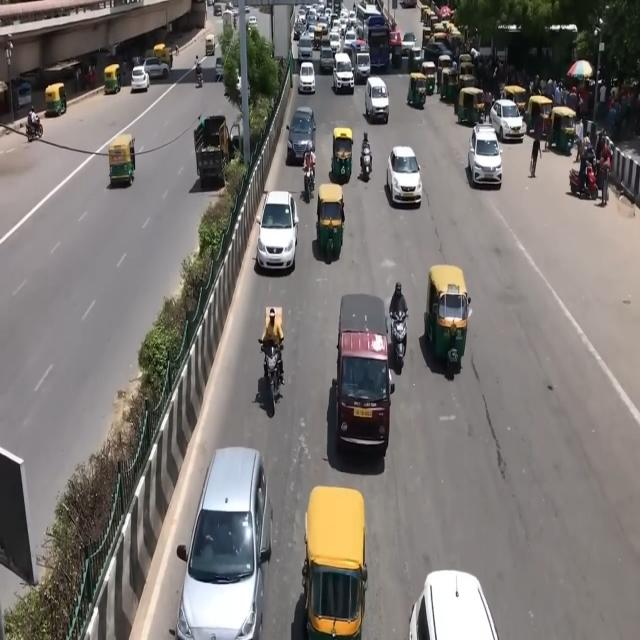auto: (302, 485, 368, 638), (424, 264, 468, 372), (316, 183, 346, 263), (109, 134, 136, 188), (549, 104, 577, 155), (527, 94, 554, 144), (331, 126, 354, 181), (457, 85, 486, 128), (503, 84, 527, 117), (408, 71, 428, 109), (45, 83, 67, 117), (440, 66, 459, 103), (153, 43, 174, 71), (104, 64, 121, 95), (421, 60, 436, 94), (431, 30, 451, 54), (458, 54, 474, 79), (447, 29, 462, 55), (437, 53, 452, 77), (432, 21, 447, 39), (205, 34, 215, 56)
bike-auto: (261, 306, 285, 385), (389, 281, 409, 360), (303, 143, 316, 195), (361, 131, 371, 170), (27, 107, 39, 138), (194, 55, 202, 78)
